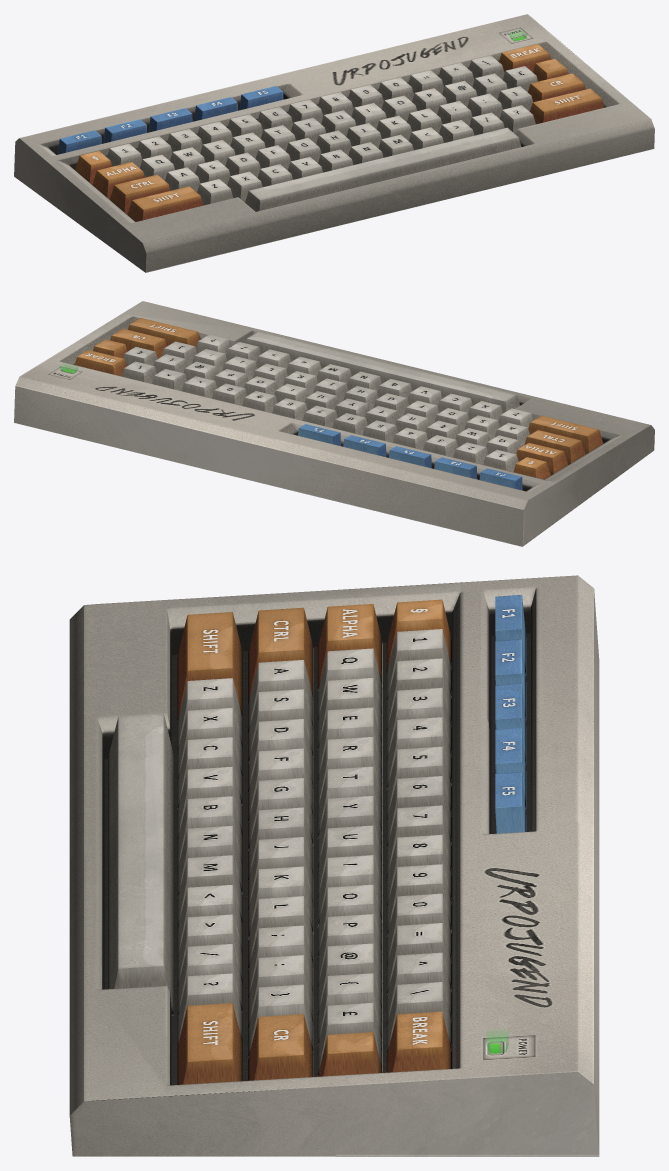
The model's file is key.glb.
3 views of the same model, one above another, from view 1: azimuth 30°, elevation 25°; view 2: azimuth 150°, elevation 25°; view 3: azimuth 270°, elevation 25° (orthographic). The views are drawn at different scales.
Parts seen in each view (by area): view 1: Object_4, Object_3; view 2: Object_3, Object_4; view 3: Object_3, Object_4.
Part boxes in pixels (x1,y1,x2,y2): Object_4: [58, 44, 604, 221]; Object_3: [14, 14, 654, 272]; Object_3: [14, 301, 654, 546]; Object_4: [74, 318, 603, 490]; Object_3: [69, 575, 599, 1156]; Object_4: [108, 595, 526, 1084].
Size of the model in its own units: 105 by 9.48 by 47.53.
3 materials, 3 textured.
